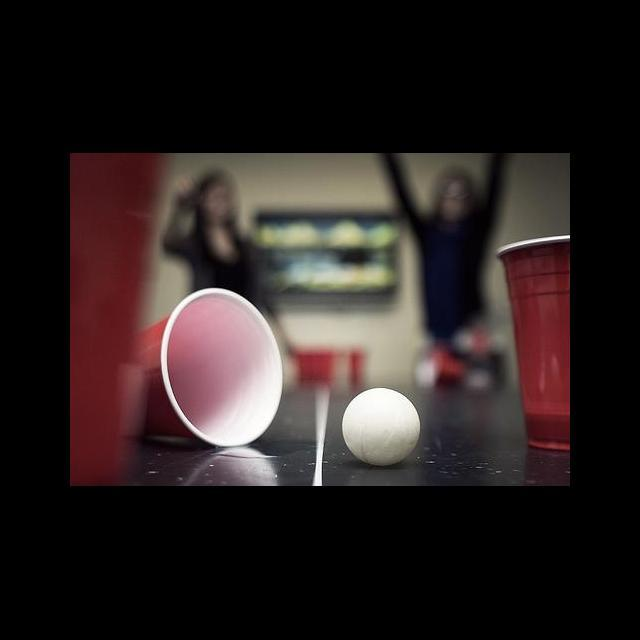ping-pong-ball: (340, 387, 422, 468)
